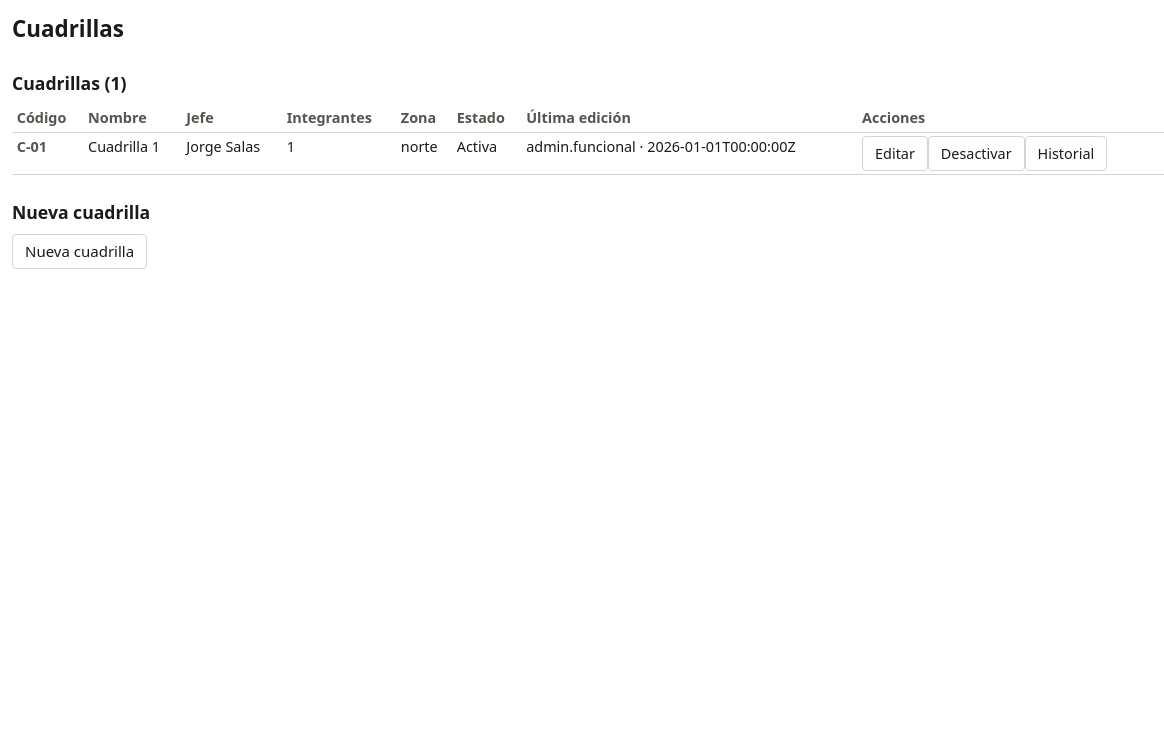
Test: crear o editar › editar una cuadrilla existente bloquea el código
Click the button "Editar".
click(895, 154)  # box 862,136 -> 928,171
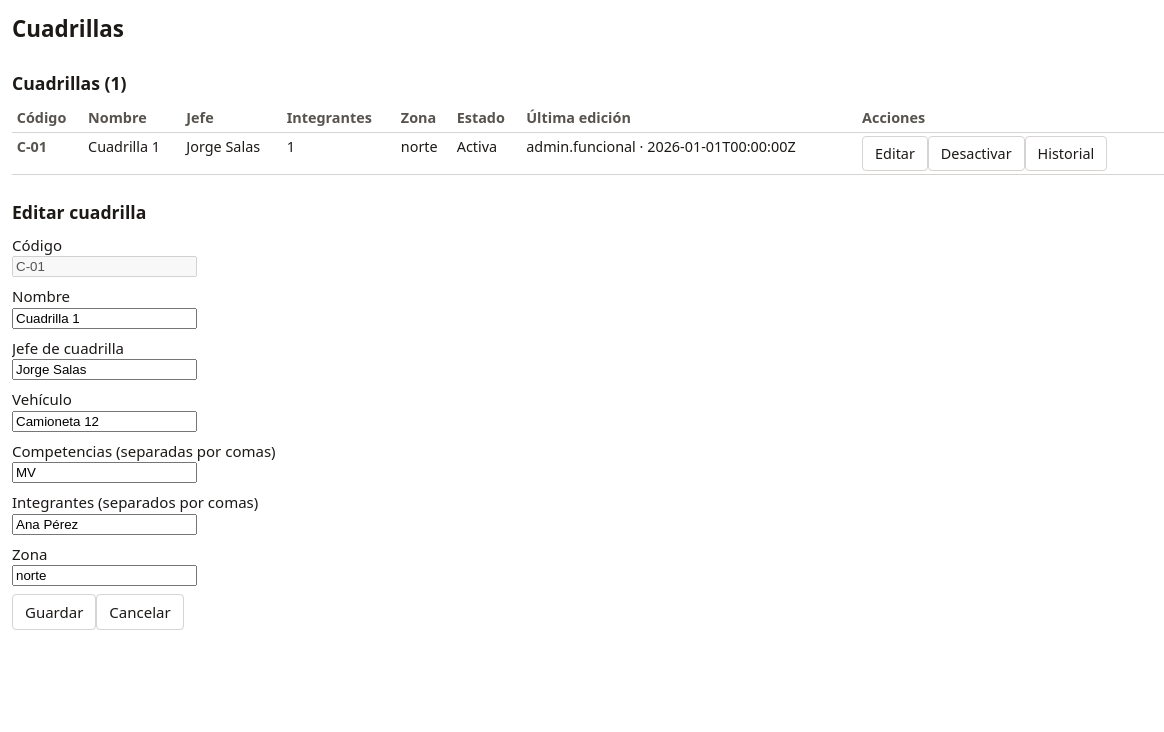
Result: the field labelled "Código" is disabled at 12,256 -> 197,277
Result: the field labelled "Nombre" holds "Cuadrilla 1" at 12,308 -> 197,328
